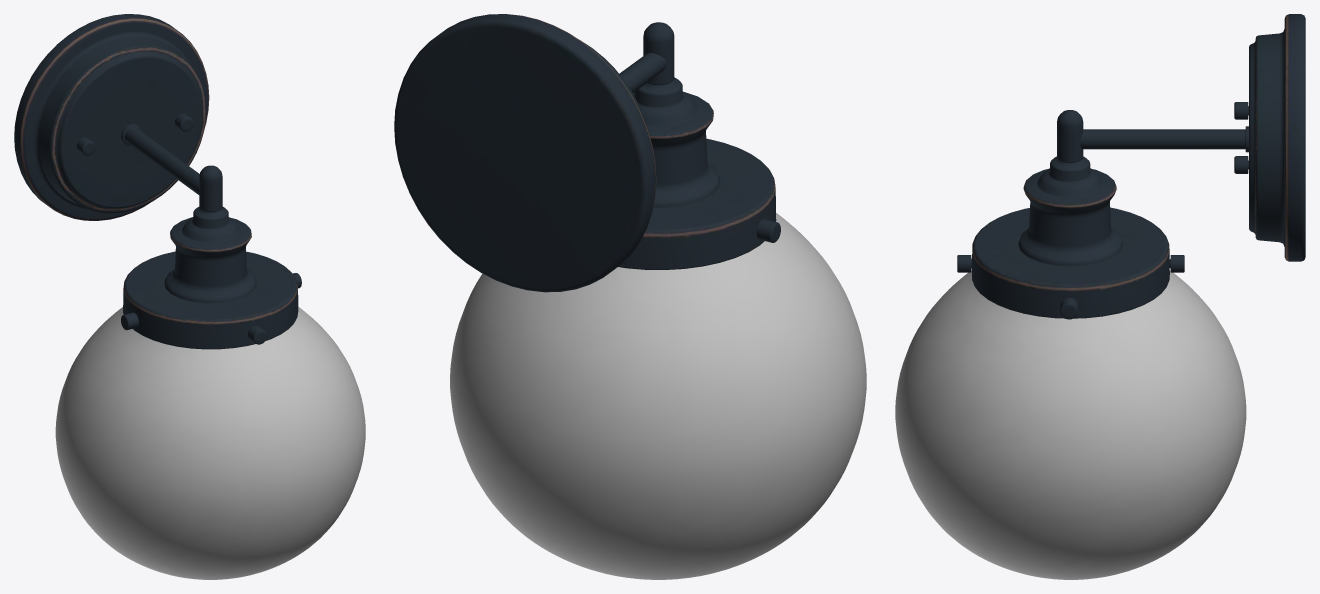
File: abo-B07QC76NM2.glb
3 views of the same model, side by side, from view 1: azimuth 30°, elevation 25°; view 2: azimuth 150°, elevation 25°; view 3: azimuth 270°, elevation 25° (orthographic). The views are drawn at different scales.
Bounding box in the file's own units: 0.197 × 0.332 × 0.23.
1 material, 1 textured.
